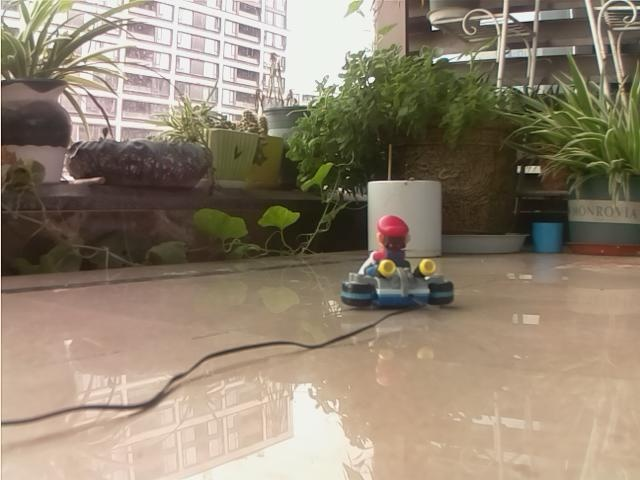mario: (332, 201, 459, 325)
